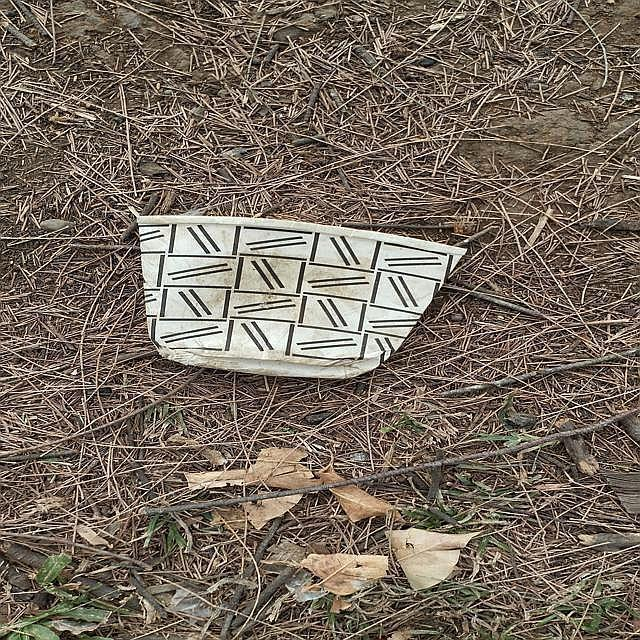Biodegradable: (137, 217, 469, 381)
